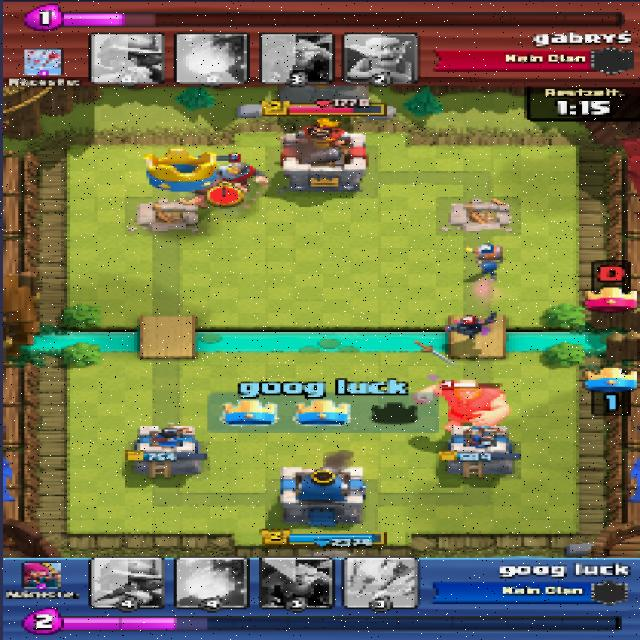Enemy-Giant: (414, 378, 512, 428)
Enemy-Knight: (212, 163, 266, 192)
Enemy-MiniPEKKA: (444, 312, 499, 337)
Player-Wallbreaker: (468, 246, 503, 277)
